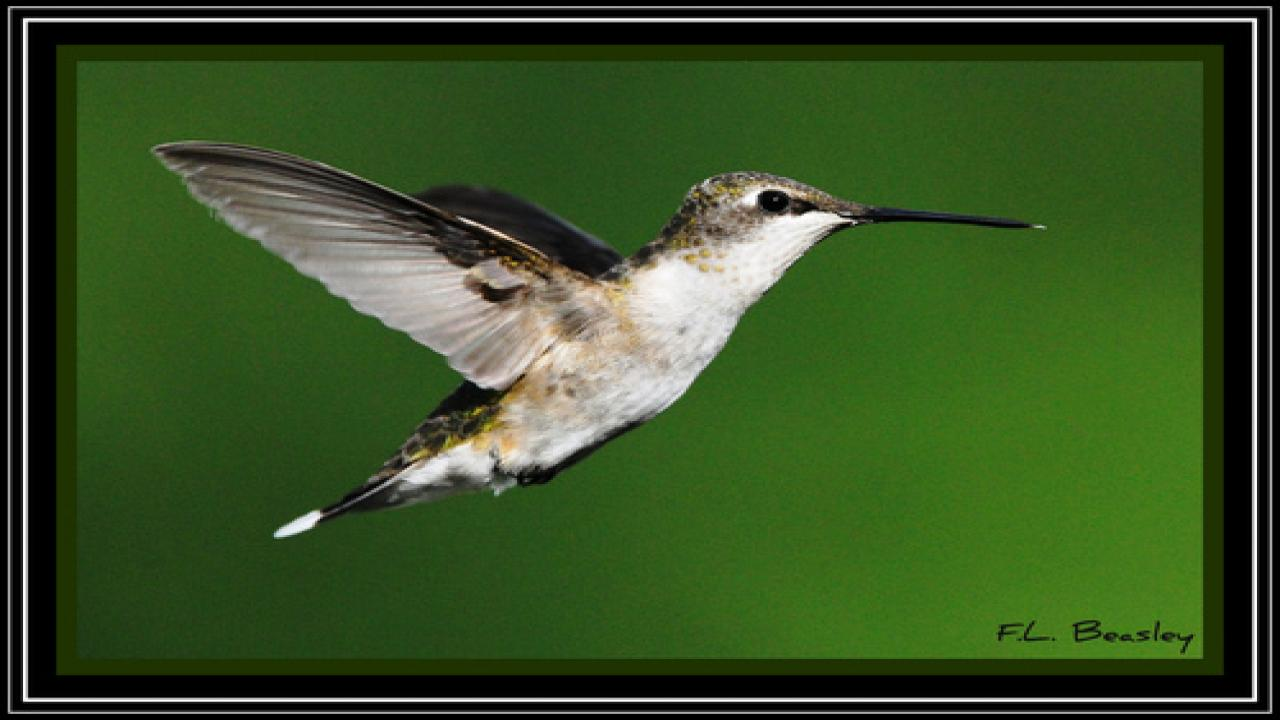Bird: (136, 128, 1054, 546)
